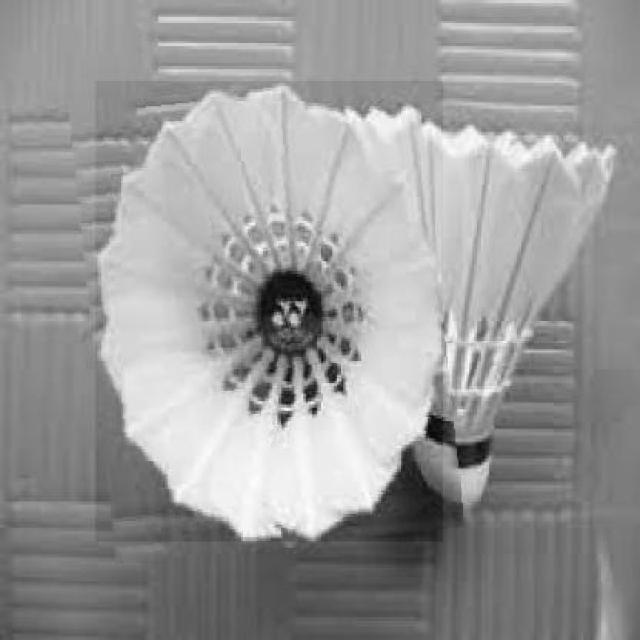Shuttlecock: (94, 78, 442, 540)
